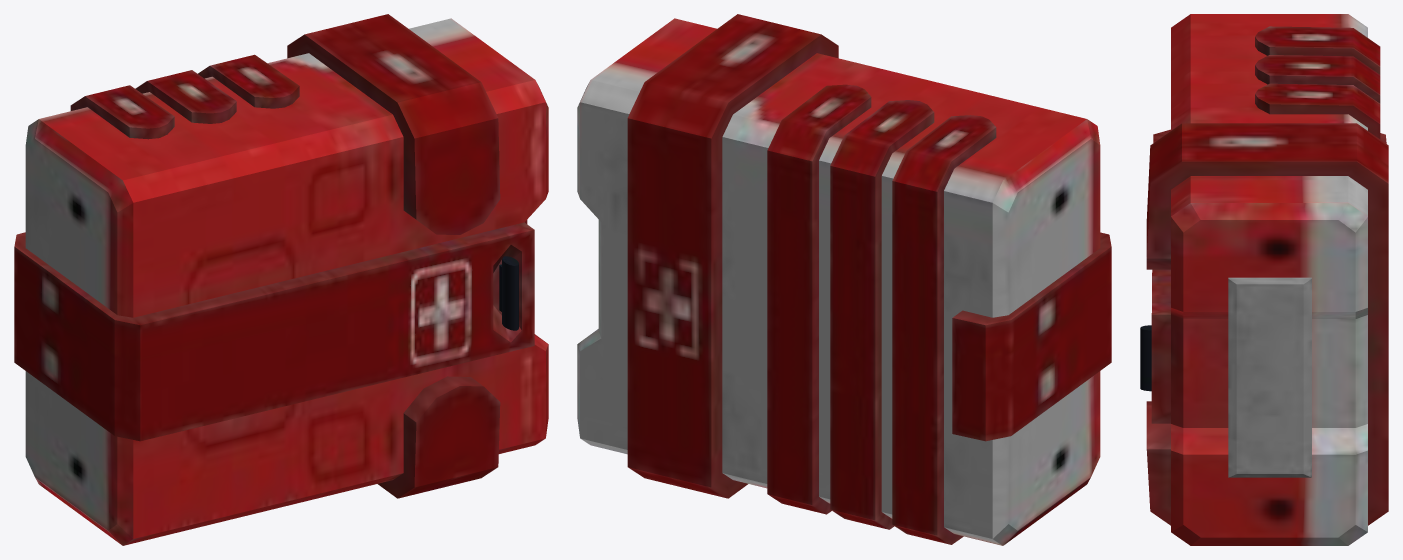
File: medkit.glb
3 renders of one model, left to right at view 1: azimuth 30°, elevation 25°; view 2: azimuth 150°, elevation 25°; view 3: azimuth 270°, elevation 25°, orthographic. The views are drawn at different scales.
Parts seen in each view (by area): view 1: defaultMaterial; view 2: defaultMaterial; view 3: defaultMaterial.
Part boxes in pixels (x1,y1,x2,y2): defaultMaterial: (14, 14, 548, 545); defaultMaterial: (577, 14, 1111, 545); defaultMaterial: (1140, 14, 1388, 545).
Bounding box in the file's own units: 0.455 × 0.3895 × 0.236.
Materials: 2 (2 with a texture image).
